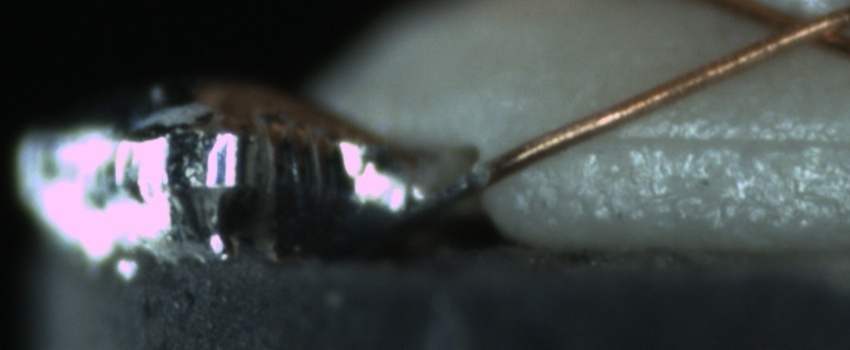CL: (747, 2, 843, 58)
DL: (578, 105, 841, 173)
